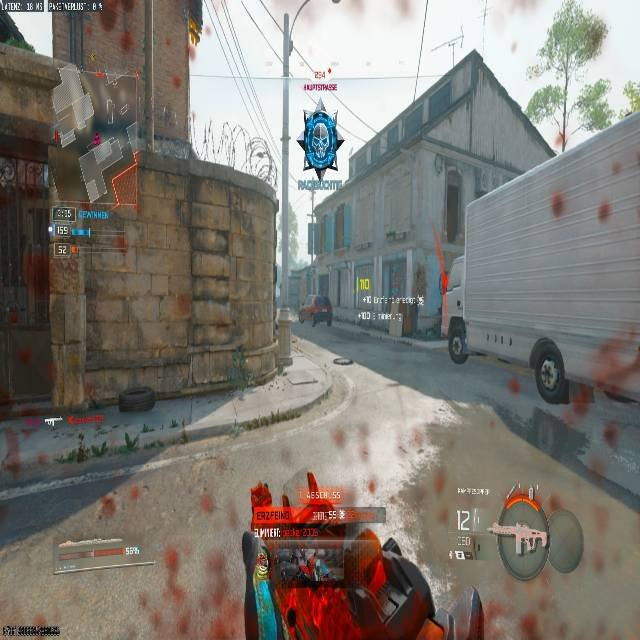player: (295, 110, 343, 180)
